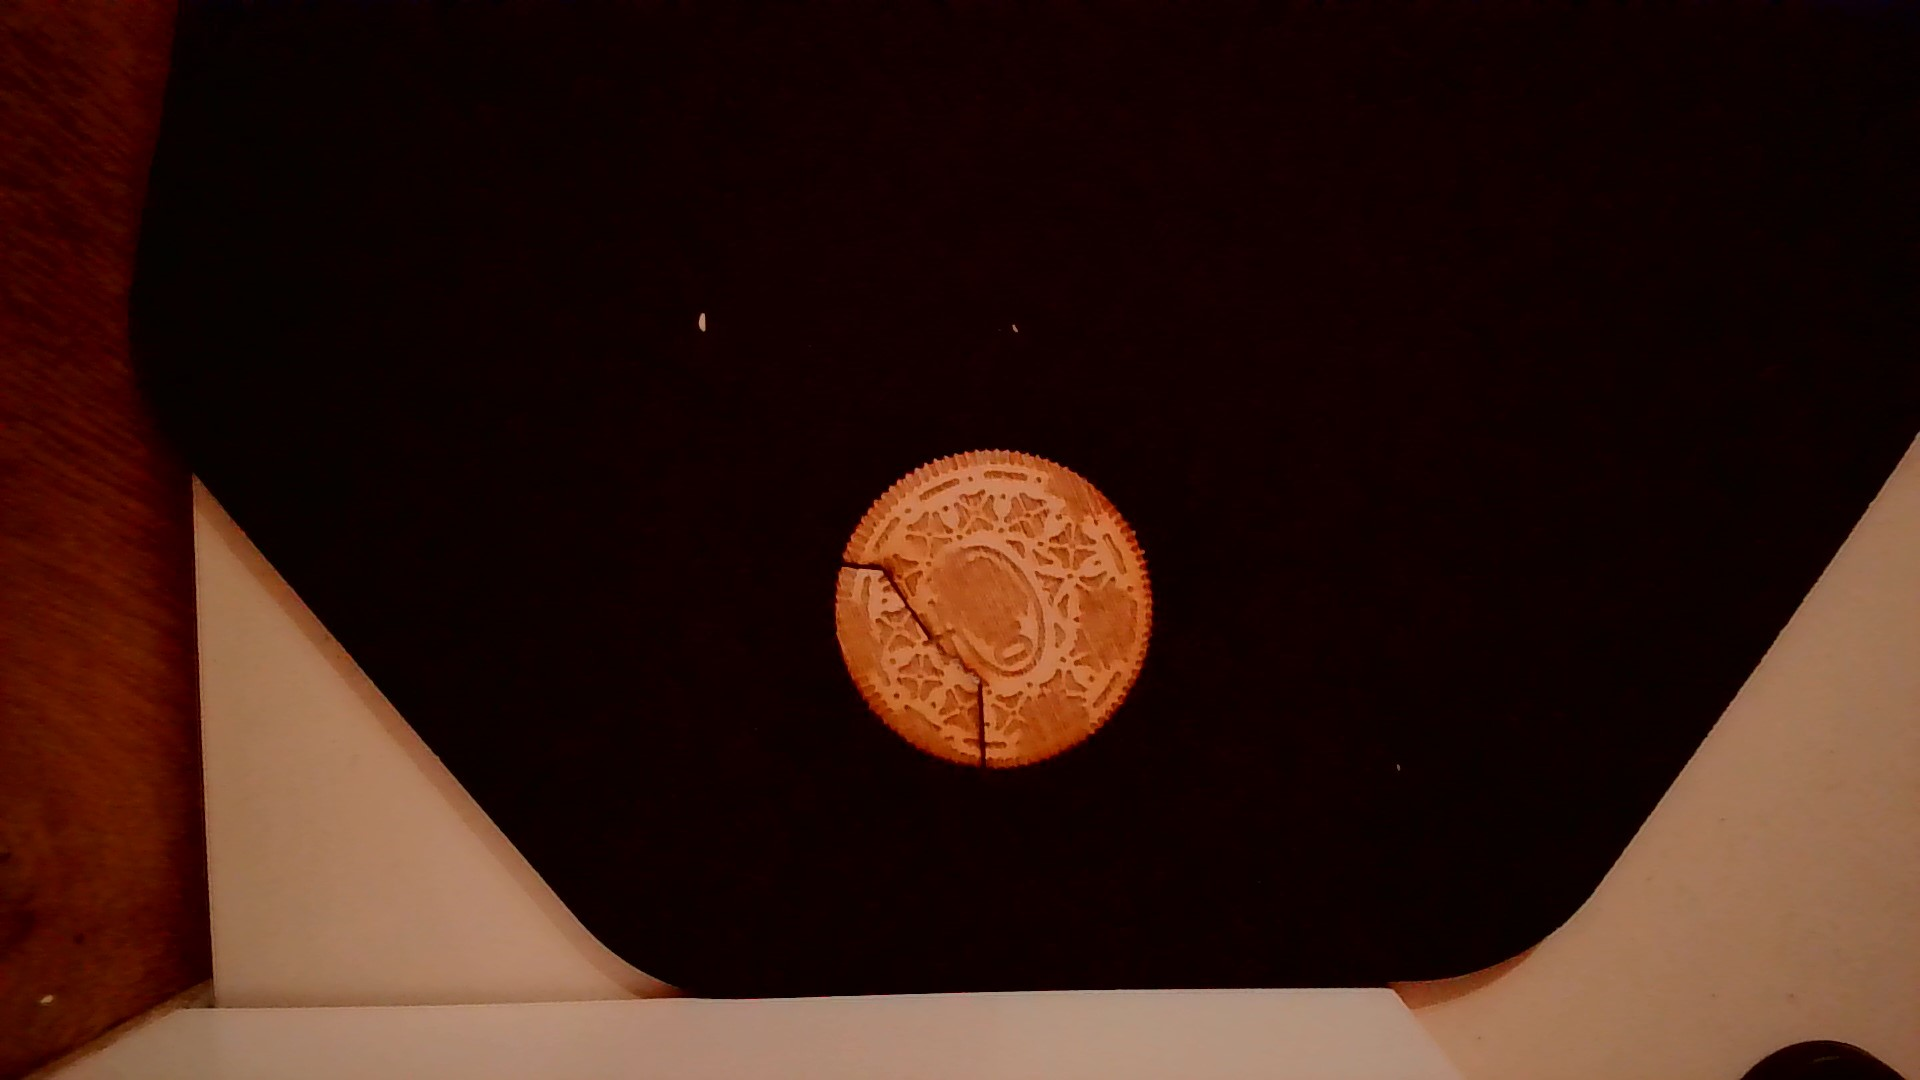Effacé: (940, 538, 1033, 646), (1079, 575, 1138, 679), (1015, 691, 1087, 760), (837, 607, 882, 683), (1044, 464, 1098, 524)
Fissure: (823, 556, 992, 775)
Oréo: (823, 434, 1160, 779)
